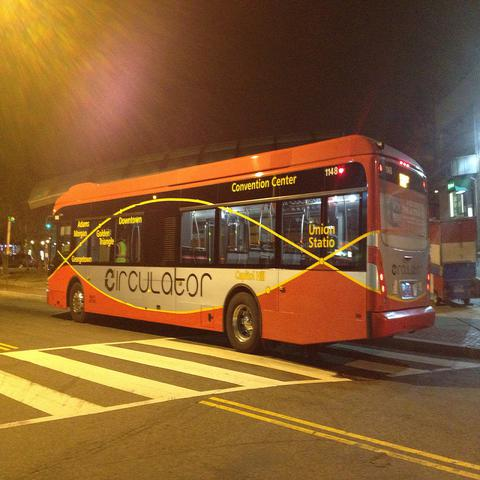bus: (39, 145, 439, 352), (0, 244, 21, 256)
car: (9, 245, 33, 268)
truck: (430, 216, 478, 306)
